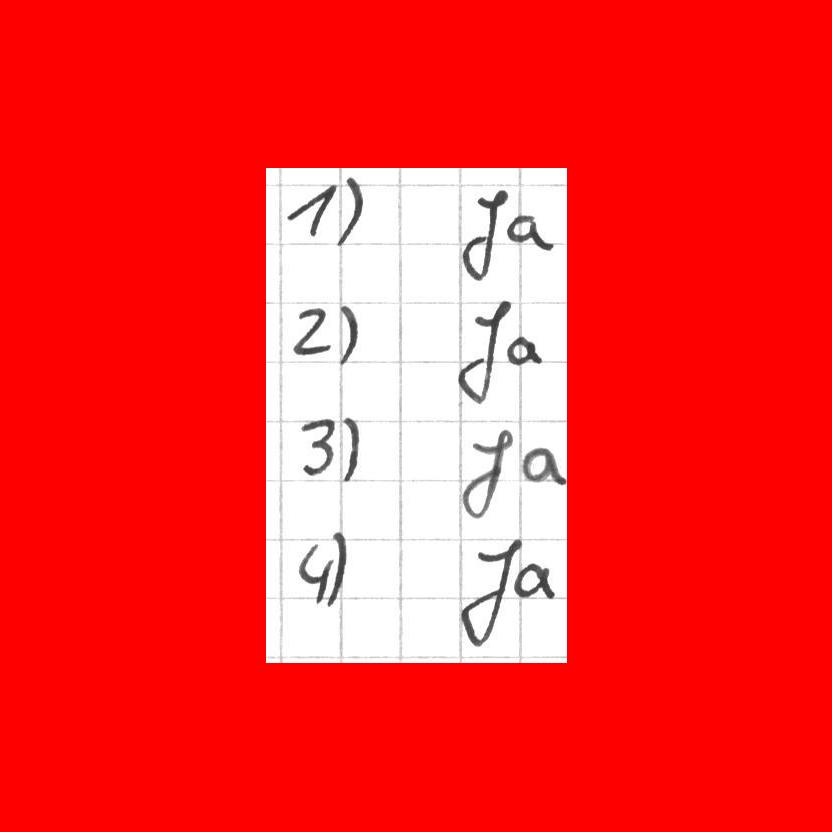Char: (456, 537, 522, 647), (452, 292, 507, 416), (459, 427, 512, 516), (459, 189, 507, 285), (285, 184, 337, 242), (291, 303, 332, 365), (296, 541, 334, 607), (297, 415, 336, 479), (519, 443, 565, 487), (337, 178, 366, 244), (506, 214, 553, 251), (512, 562, 555, 600), (327, 528, 347, 607), (338, 413, 359, 485), (336, 303, 360, 364), (507, 335, 541, 369)
